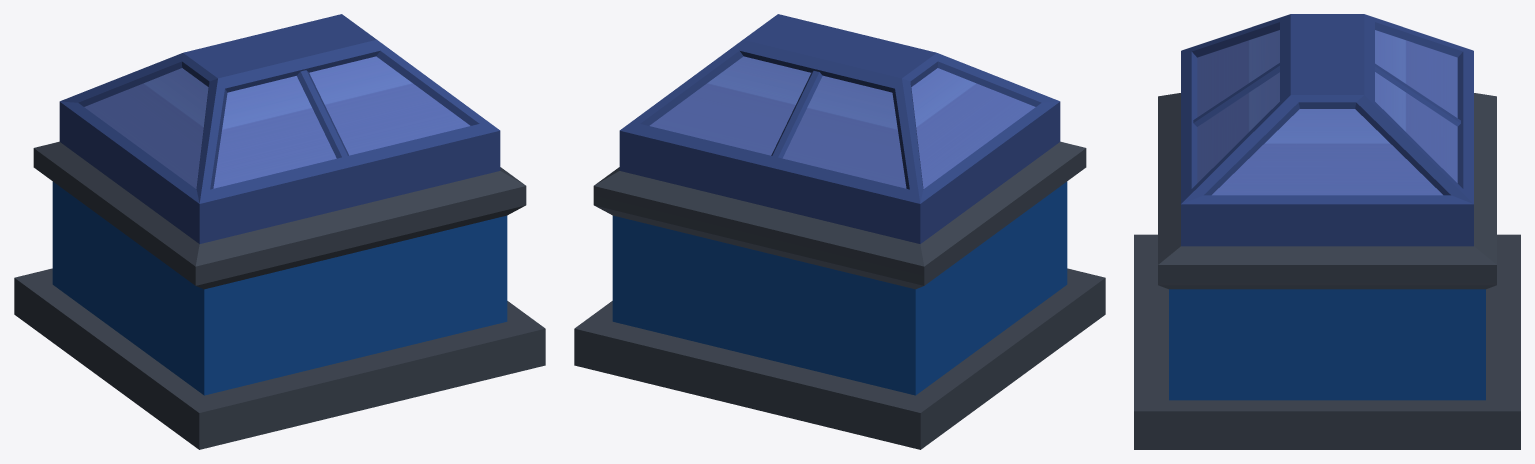
The model's file is RoofLights_1_E.glb.
The picture shows the model from 3 angles, left to right: view 1: azimuth 30°, elevation 25°; view 2: azimuth 150°, elevation 25°; view 3: azimuth 270°, elevation 25°; orthographic projection. The views are drawn at different scales.
Parts seen in each view (by area): view 1: RoofLights_1_E; view 2: RoofLights_1_E; view 3: RoofLights_1_E.
Part boxes in pixels (left/top/right/bottom): RoofLights_1_E: left=14, top=14, right=545, bottom=449; RoofLights_1_E: left=574, top=14, right=1105, bottom=449; RoofLights_1_E: left=1134, top=14, right=1520, bottom=449.
Bounding box in the file's own units: 1.07 × 0.8665 × 0.9888.
3 materials, 3 textured.
